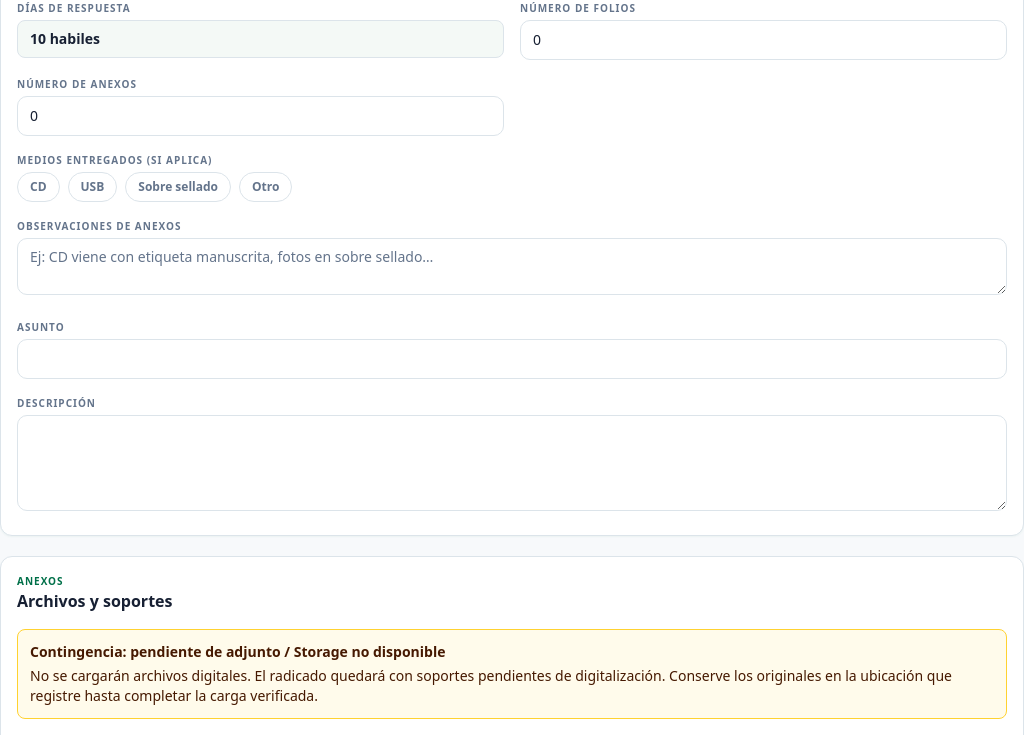
Test case: Radicación dirigida — selector de dependencia destino › escribir el asunto muestra el chip y Aplicar cambia el destino
The width and height of the screenshot is (1024, 735).
(page scrolled)
In the field labelled "Asunto": (512, 359) 17,339 -> 1007,379, type "Licencia de construcción para vivienda"
(page scrolled)
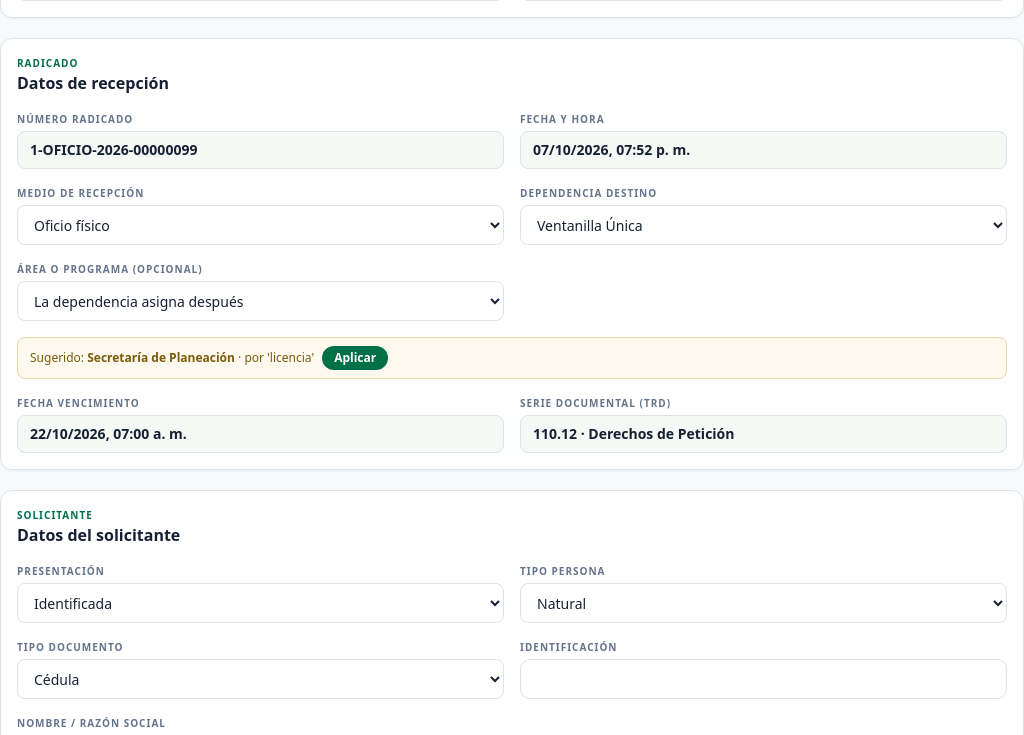
Expected: the dropdown labelled "Dependencia destino" shows "Ventanilla Única", 520,205 -> 1007,245
Click the button with aria-label "Aplicar sugerencia: dirigir a Secretaría de Planeación": click(355, 358) 322,346 -> 388,370
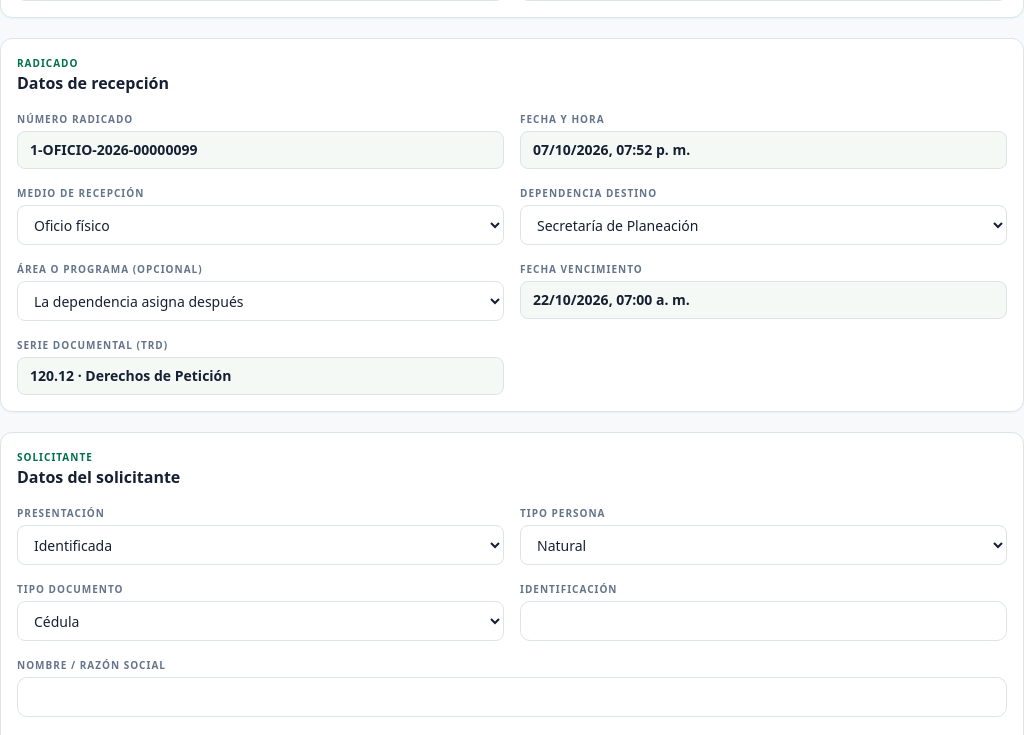
Expected: the dropdown labelled "Dependencia destino" shows "Secretaría de Planeación", 520,205 -> 1007,245
